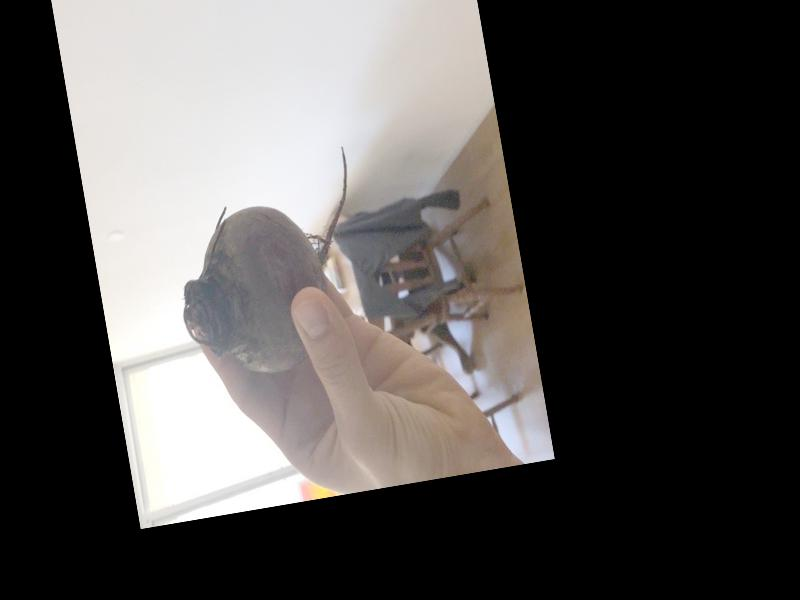Beet: (159, 144, 378, 385)
